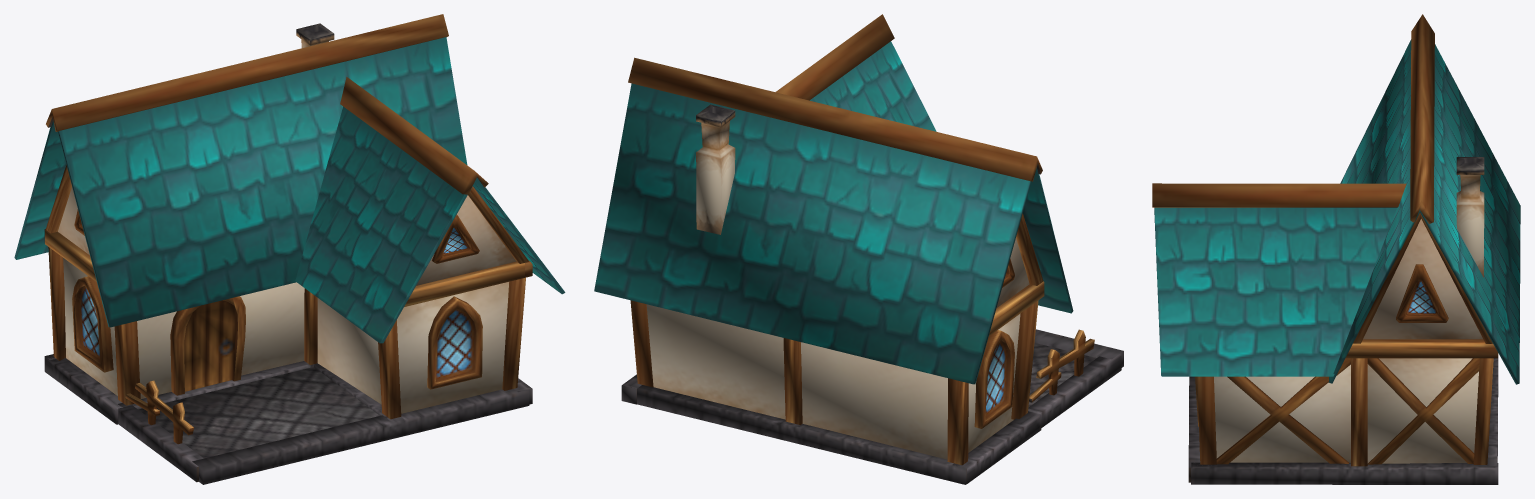
File: building_2_4.FBX
3 views of the same model, side by side, from view 1: azimuth 30°, elevation 25°; view 2: azimuth 150°, elevation 25°; view 3: azimuth 270°, elevation 25° (orthographic). The views are drawn at different scales.
Visible parts, largest first — view 1: building_2_4; view 2: building_2_4; view 3: building_2_4.
Boxes of the visible parts, bbox=[...] form: building_2_4: bbox=[14, 14, 565, 484]; building_2_4: bbox=[594, 14, 1123, 484]; building_2_4: bbox=[1152, 14, 1520, 484].
Bounding box in the file's own units: 325 × 237 × 268.
